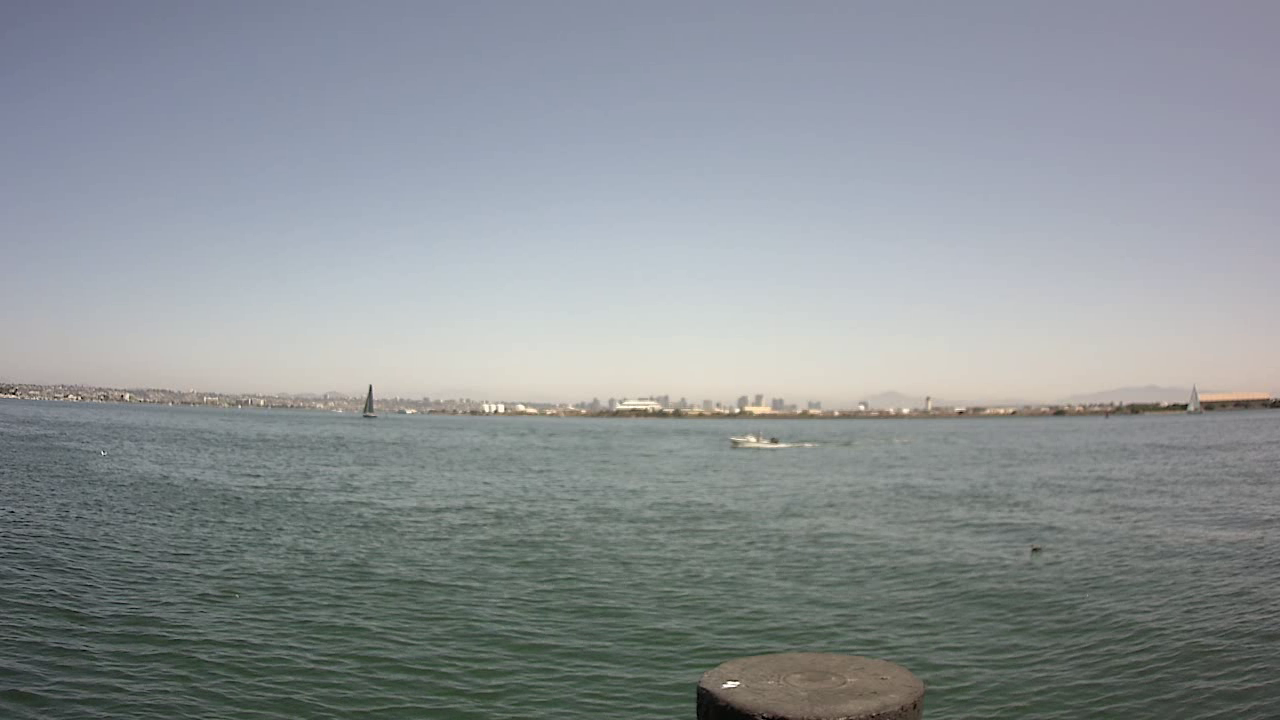target: (720, 421, 799, 459)
